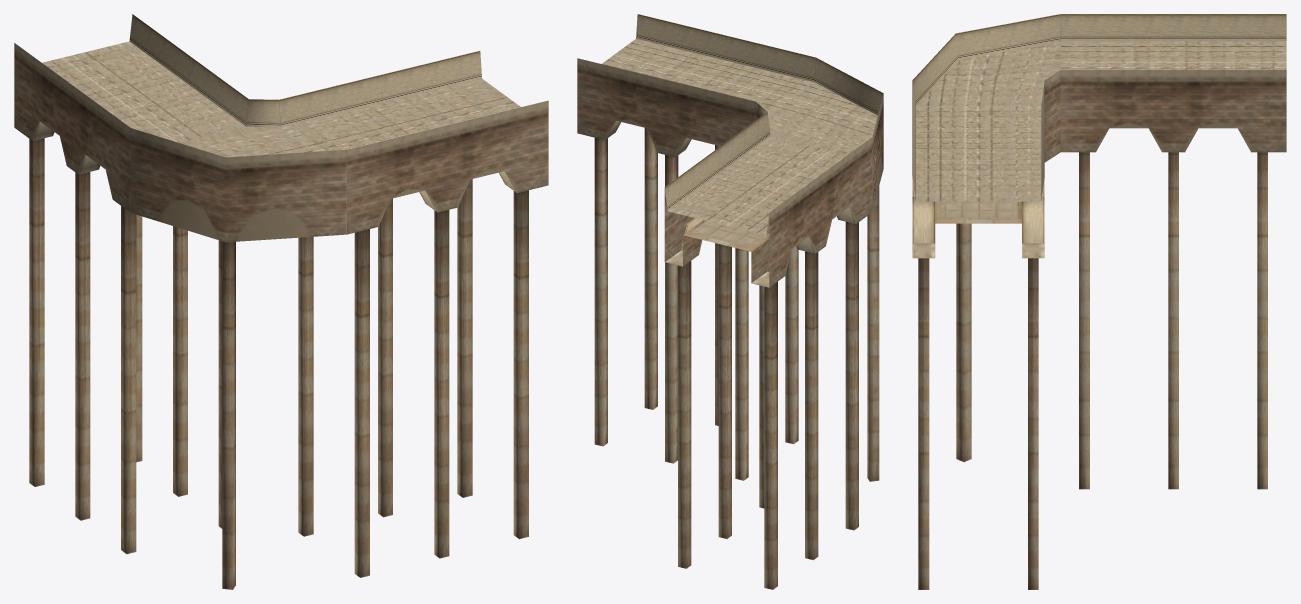
The model's file is thm_nboo_imprv_elevated_walkway_corner_s01_l3.fbx.
3 views of the same model, side by side, from view 1: azimuth 30°, elevation 25°; view 2: azimuth 150°, elevation 25°; view 3: azimuth 270°, elevation 25° (orthographic). The views are drawn at different scales.
Parts seen in each view (by area): view 1: mesh_node; view 2: mesh_node; view 3: mesh_node.
Boxes of the visible parts, left/top/right/bottom form: mesh_node: left=14, top=14, right=548, bottom=589; mesh_node: left=577, top=14, right=883, bottom=589; mesh_node: left=912, top=14, right=1286, bottom=589.
Bounding box in the file's own units: 15.04 × 18.3 × 14.7.
